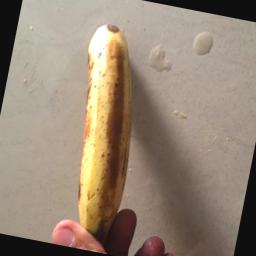Banana Ripe: (40, 12, 173, 246)
